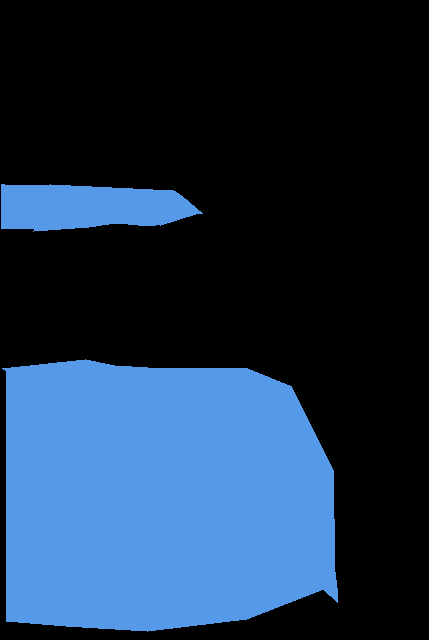Airplane: (2, 359, 338, 631), (1, 184, 203, 232)
